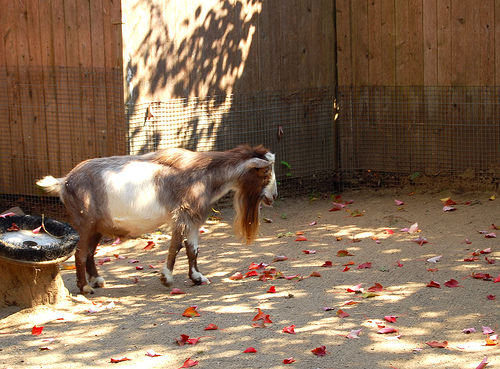goat: (35, 141, 280, 292)
